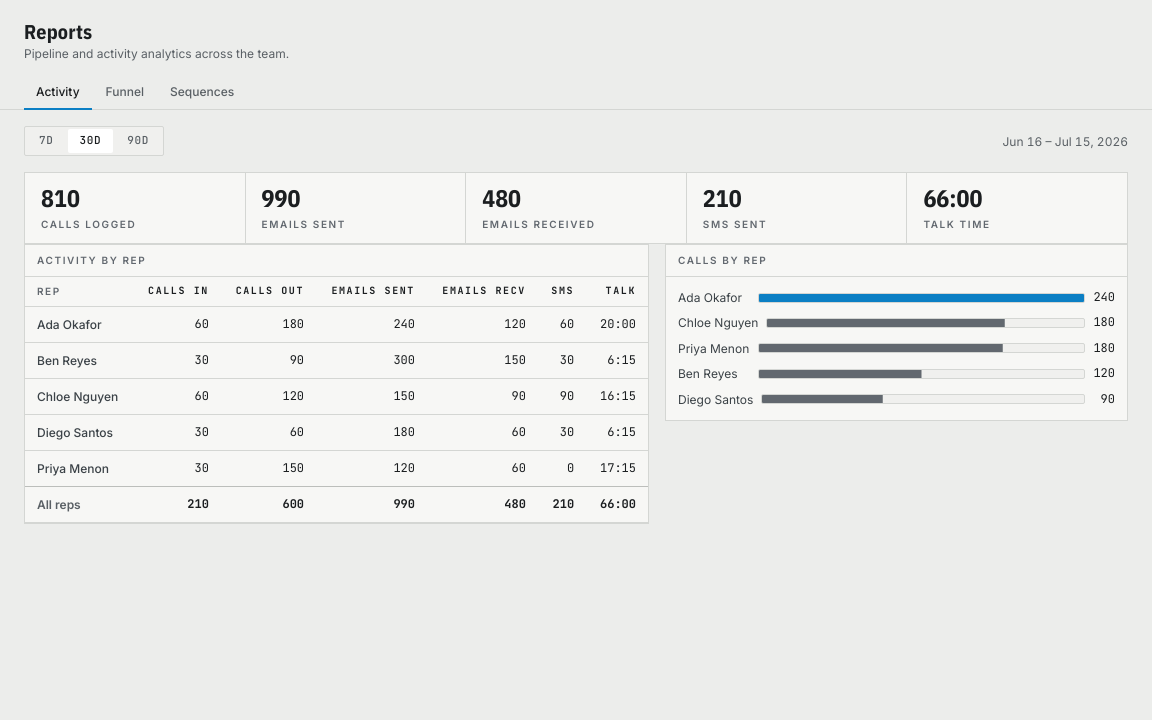
Scenario: ReportsSurface › defaults to Activity and switches families on click
Check: the text "Calls logged" is shown, box left=41, top=218, right=136, bottom=230
Click the tab "Funnel": (125, 92) left=94, top=74, right=156, bottom=110
(page scrolled)
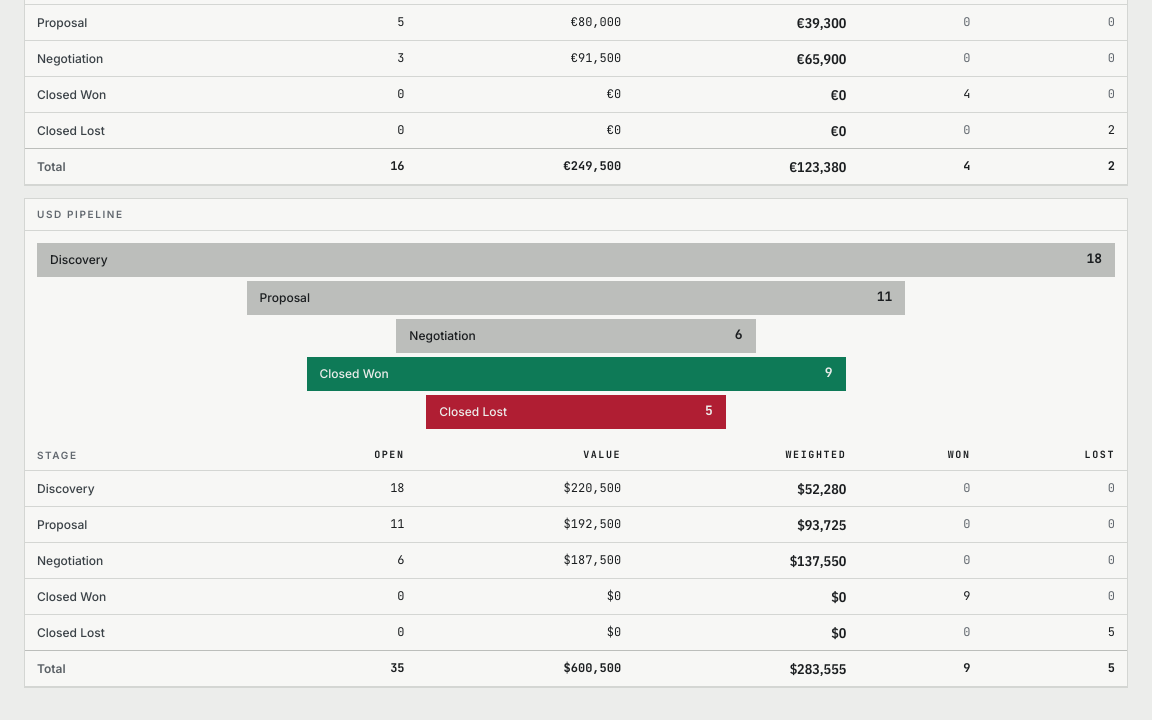
Check: the element "USD pipeline" is shown
Check: the text "Calls logged" is gone
